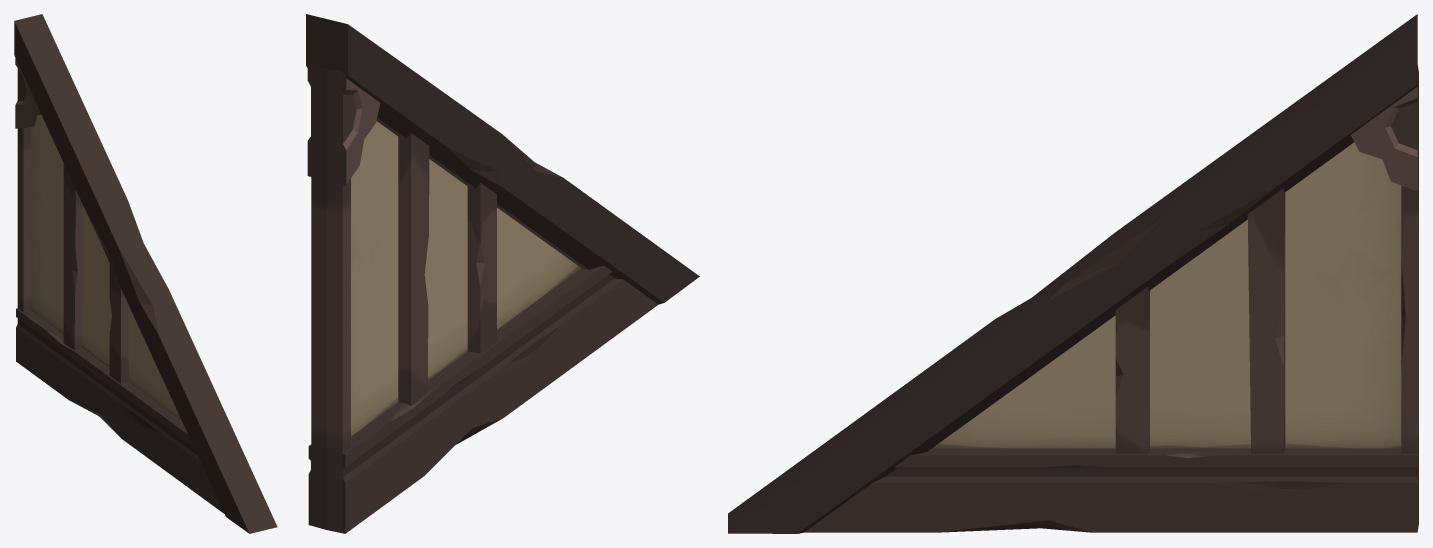
Rendered from samurai_SM_Bld_Roof_End_05_Alt_01.gltf.
3 renders of one model, left to right at view 1: azimuth 30°, elevation 25°; view 2: azimuth 150°, elevation 25°; view 3: azimuth 270°, elevation 25°, orthographic. The views are drawn at different scales.
Parts seen in each view (by area): view 1: SM_Bld_Roof_End_05_Alt_01; view 2: SM_Bld_Roof_End_05_Alt_01; view 3: SM_Bld_Roof_End_05_Alt_01.
Boxes of the visible parts, x1,y1,x2,y2 form: SM_Bld_Roof_End_05_Alt_01: (14, 14, 277, 533); SM_Bld_Roof_End_05_Alt_01: (306, 14, 699, 533); SM_Bld_Roof_End_05_Alt_01: (728, 14, 1418, 533).
Bounding box in the file's own units: 0.5162 × 6 × 7.52.
Materials: 2 (2 with a texture image).
